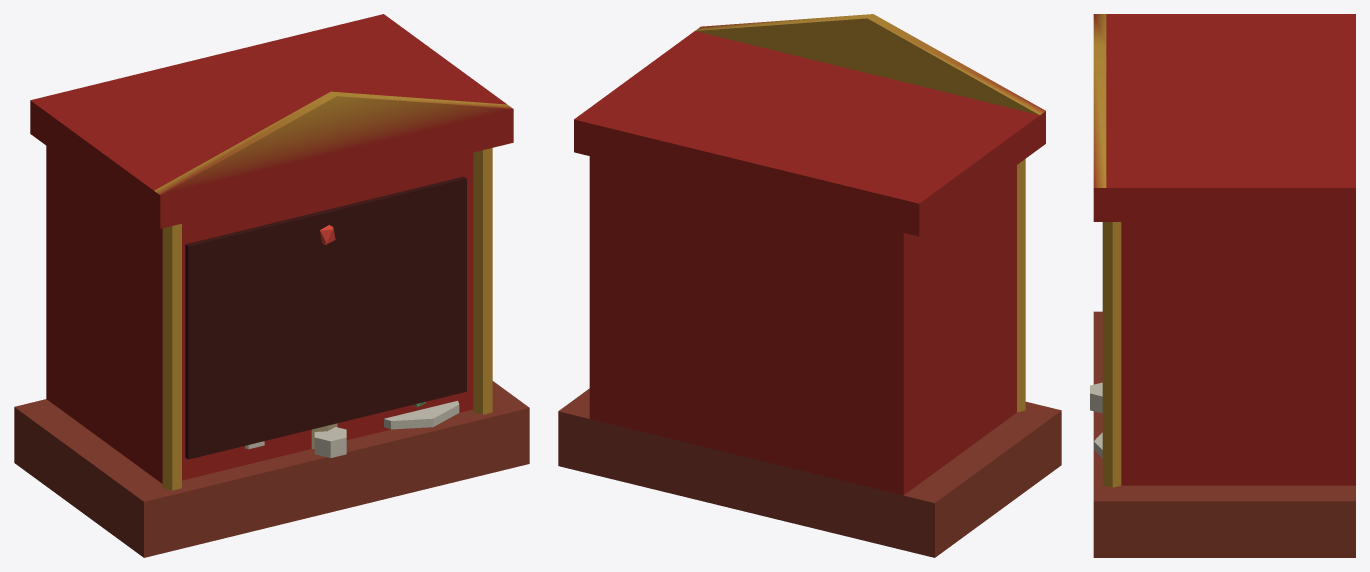
The model's file is ban_tho_dia.glb.
The picture shows the model from 3 angles, left to right: view 1: azimuth 30°, elevation 25°; view 2: azimuth 150°, elevation 25°; view 3: azimuth 270°, elevation 25°; orthographic projection. The views are drawn at different scales.
Parts seen in each view (by area): view 1: ban_tho_dia; view 2: ban_tho_dia; view 3: ban_tho_dia.
Boxes of the visible parts, x1,y1,x2,y2 form: ban_tho_dia: (14, 14, 529, 557); ban_tho_dia: (558, 14, 1061, 557); ban_tho_dia: (1090, 14, 1355, 557).
Size of the model in its own units: 0.72 by 0.74 by 0.426.
